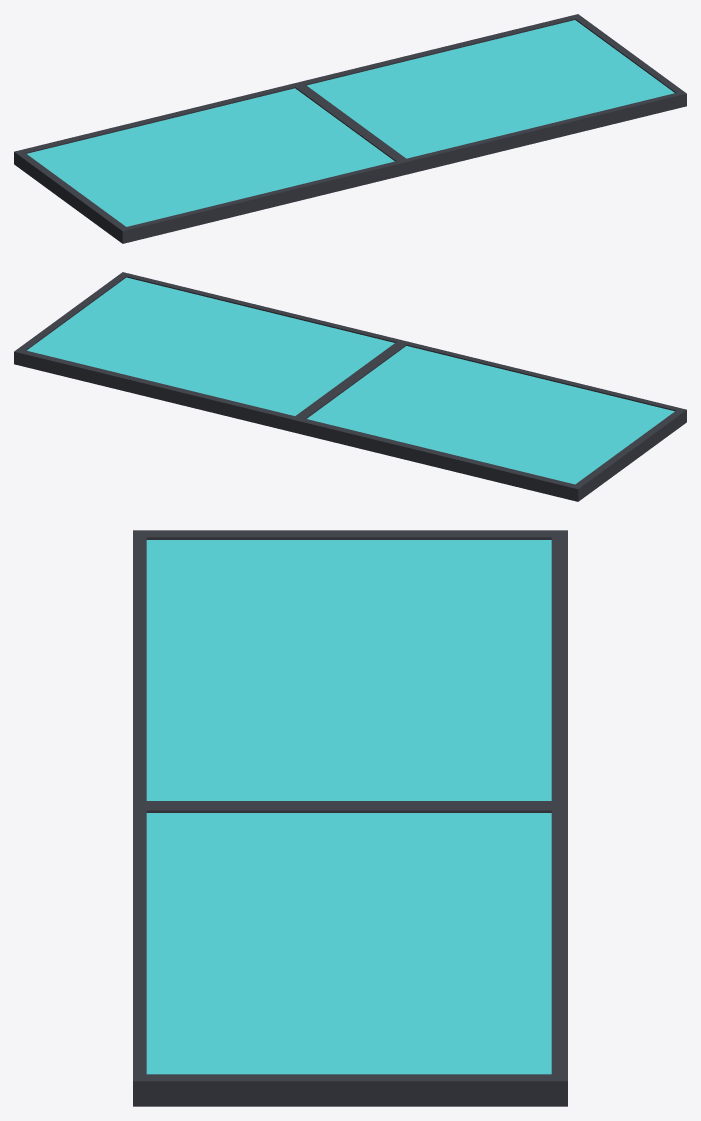
Rendered from SolarPannel.fbx.
The picture shows the model from 3 angles, top to bottom: view 1: azimuth 30°, elevation 25°; view 2: azimuth 150°, elevation 25°; view 3: azimuth 270°, elevation 25°; orthographic projection. The views are drawn at different scales.
Parts seen in each view (by area): view 1: Plane; view 2: Plane; view 3: Plane.
Part boxes in pixels (bbox=[...]): Plane: bbox=[14, 14, 686, 243]; Plane: bbox=[14, 272, 686, 501]; Plane: bbox=[133, 530, 567, 1106].
Size of the model in its own units: 599 by 12.85 by 200.
